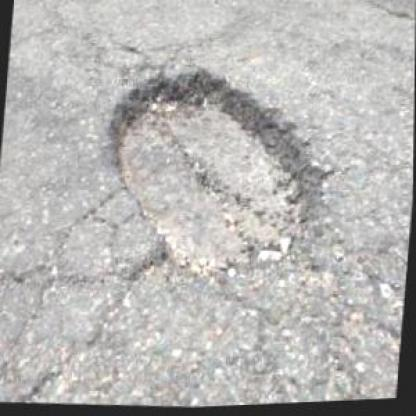pothole: (95, 54, 340, 294)
